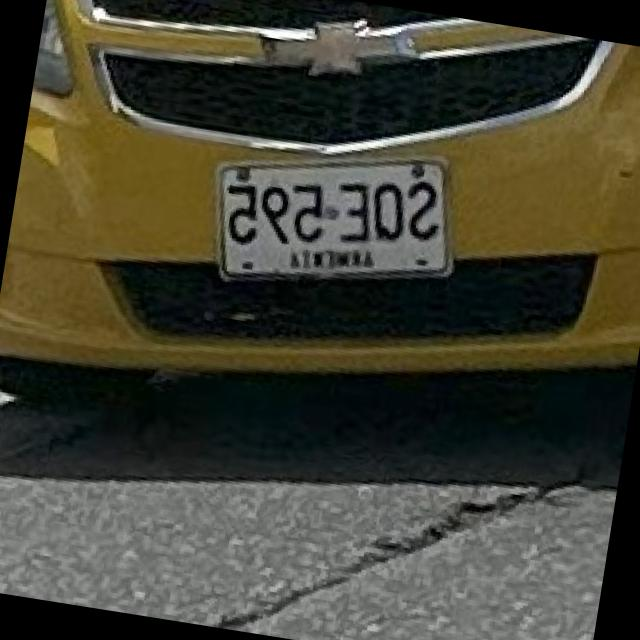number plate: (225, 159, 455, 276)
